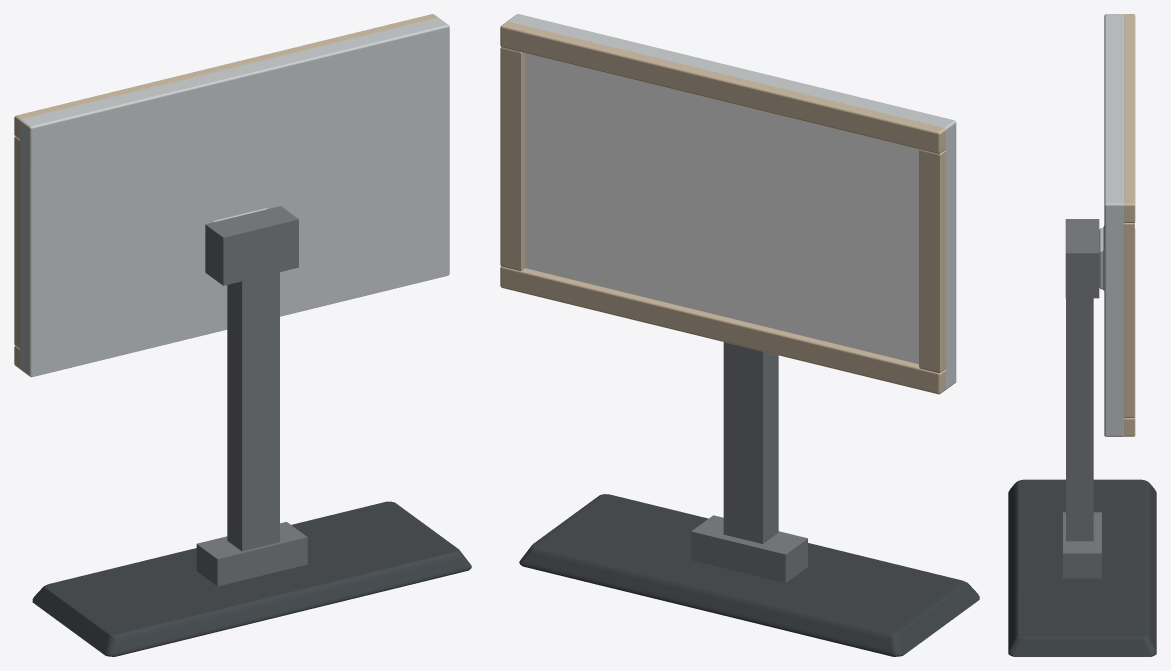
3 views of the same model, side by side, from view 1: azimuth 30°, elevation 25°; view 2: azimuth 150°, elevation 25°; view 3: azimuth 270°, elevation 25° (orthographic). The views are drawn at different scales.
Visible parts, largest first — view 1: monitor_body_bezel, base_stand, pedestal_arm; view 2: display_surface, monitor_body_bezel, base_stand, pedestal_arm; view 3: base_stand, monitor_body_bezel, pedestal_arm.
Part boxes in pixels (x1,y1,x2,y2): monitor_body_bezel: [14, 14, 449, 377]; base_stand: [32, 501, 471, 656]; pedestal_arm: [196, 206, 307, 586]; display_surface: [525, 53, 919, 364]; monitor_body_bezel: [500, 14, 956, 394]; base_stand: [519, 494, 979, 656]; pedestal_arm: [691, 342, 807, 582]; base_stand: [1008, 479, 1156, 656]; monitor_body_bezel: [1099, 14, 1135, 436]; pedestal_arm: [1063, 219, 1101, 578].
Size of the model in its own units: 6.4 by 7.28 by 2.1.
